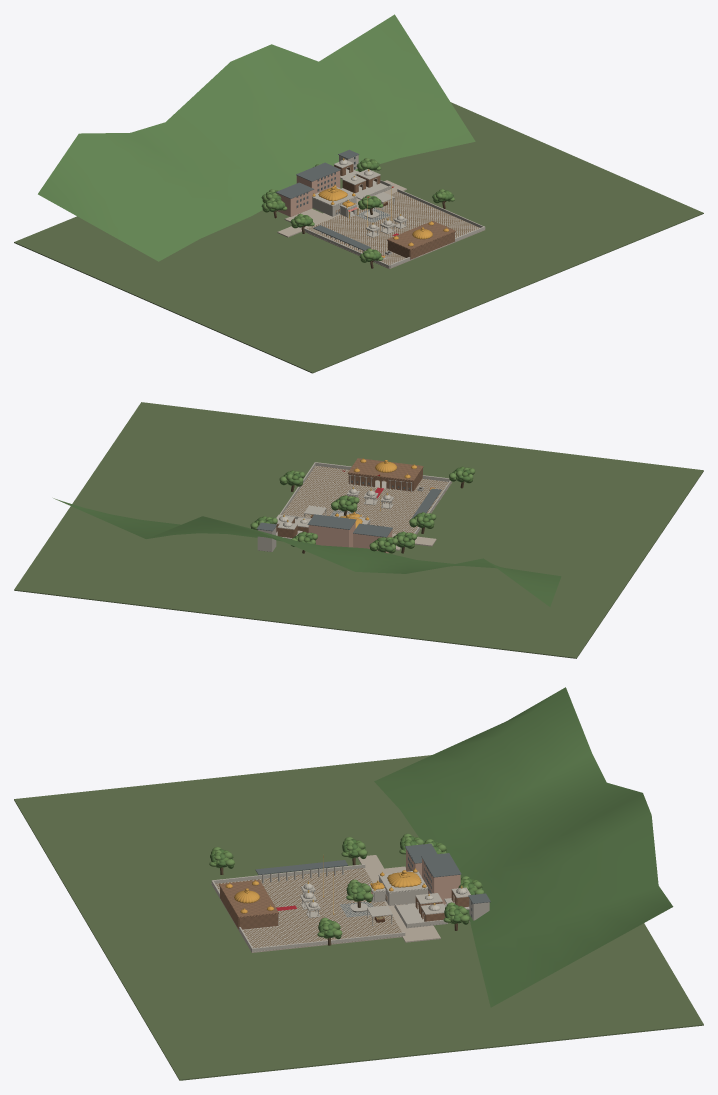
File: jwalamukhi_vaishnavi_kshetra_full.glb
3 renders of one model, top to bottom at view 1: azimuth 30°, elevation 25°; view 2: azimuth 150°, elevation 25°; view 3: azimuth 270°, elevation 25°, orthographic. The views are drawn at different scales.
Parts seen in each view (by area): view 1: Ground_Hillside_Valley, Terrain_Kalidhar_Rise-renderonly, Ground_Courtyard_Checkered_1-renderonly, Ground_Courtyard_Checkered_0-renderonly, Seja_Bhawan_Eaves_Cornice.003; view 2: Ground_Hillside_Valley, Terrain_Kalidhar_Rise-renderonly, Ground_Courtyard_Checkered_0-renderonly, Ground_Courtyard_Checkered_1-renderonly, Seja_Bhawan_Eaves_Cornice.003, North_Hillside_Service_Block.001, Ground_East_Chequer_1-renderonly, Ground_East_Chequer_0-renderonly, Hillside_Service_Block_Eaves.001; view 3: Ground_Hillside_Valley, Terrain_Kalidhar_Rise-renderonly, Ground_Courtyard_Checkered_0-renderonly, Ground_Courtyard_Checkered_1-renderonly, Seja_Bhawan_Eaves_Cornice.003, Ground_Processional_Plaza, North_Hillside_Service_Block.001, Hillside_Service_Block_Eaves.001, Court_Retaining_Parapet.001, Ground_East_Chequer_0-renderonly, Ground_East_Chequer_1-renderonly, West_Long_Roofed_Gallery.
Boxes of the visible parts, bbox=[...] form: Ground_Hillside_Valley: bbox=[14, 102, 703, 373]; Terrain_Kalidhar_Rise-renderonly: bbox=[38, 14, 475, 261]; Ground_Courtyard_Checkered_1-renderonly: bbox=[307, 192, 461, 253]; Ground_Courtyard_Checkered_0-renderonly: bbox=[307, 192, 460, 253]; Seja_Bhawan_Eaves_Cornice.003: bbox=[387, 221, 455, 249]; Ground_Hillside_Valley: bbox=[14, 402, 703, 658]; Terrain_Kalidhar_Rise-renderonly: bbox=[53, 498, 561, 606]; Ground_Courtyard_Checkered_0-renderonly: bbox=[283, 479, 439, 533]; Ground_Courtyard_Checkered_1-renderonly: bbox=[282, 479, 439, 533]; Seja_Bhawan_Eaves_Cornice.003: bbox=[348, 458, 423, 480]; North_Hillside_Service_Block.001: bbox=[308, 522, 355, 547]; Ground_East_Chequer_1-renderonly: bbox=[307, 466, 348, 483]; Ground_East_Chequer_0-renderonly: bbox=[307, 466, 349, 483]; Hillside_Service_Block_Eaves.001: bbox=[307, 514, 356, 529]; Ground_Hillside_Valley: bbox=[14, 755, 703, 1080]; Terrain_Kalidhar_Rise-renderonly: bbox=[374, 687, 673, 1007]; Ground_Courtyard_Checkered_0-renderonly: bbox=[252, 868, 403, 947]; Ground_Courtyard_Checkered_1-renderonly: bbox=[250, 868, 401, 947]; Seja_Bhawan_Eaves_Cornice.003: bbox=[219, 880, 278, 917]; Ground_Processional_Plaza: bbox=[357, 855, 422, 935]; North_Hillside_Service_Block.001: bbox=[422, 858, 460, 904]; Hillside_Service_Block_Eaves.001: bbox=[421, 853, 461, 877]; Court_Retaining_Parapet.001: bbox=[252, 932, 405, 951]; Ground_East_Chequer_0-renderonly: bbox=[243, 926, 289, 951]; Ground_East_Chequer_1-renderonly: bbox=[243, 926, 287, 950]; West_Long_Roofed_Gallery: bbox=[255, 860, 347, 875].
Size of what is drawn, in the model's own units: 221 by 35.39 by 192.
33 materials, 2 textured.
